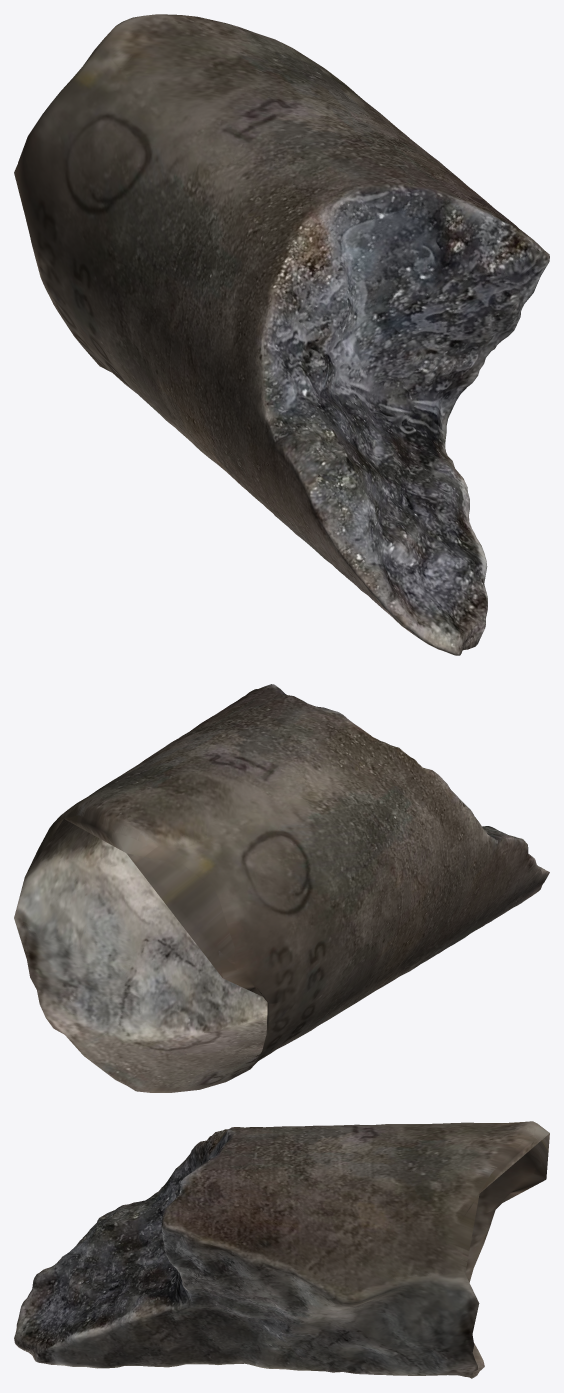
The model's file is PECLD07753 T3.GLB.
3 renders of one model, top to bottom at view 1: azimuth 30°, elevation 25°; view 2: azimuth 150°, elevation 25°; view 3: azimuth 270°, elevation 25°, orthographic. The views are drawn at different scales.
Parts seen in each view (by area): view 1: baked_mesh; view 2: baked_mesh; view 3: baked_mesh.
Part boxes in pixels (x1,y1,x2,y2): baked_mesh: [14, 14, 549, 655]; baked_mesh: [14, 684, 549, 1092]; baked_mesh: [14, 1121, 549, 1378].
Size of the model in its own units: 0.2388 by 0.2516 by 0.49.
Materials: 1 (1 with a texture image).
